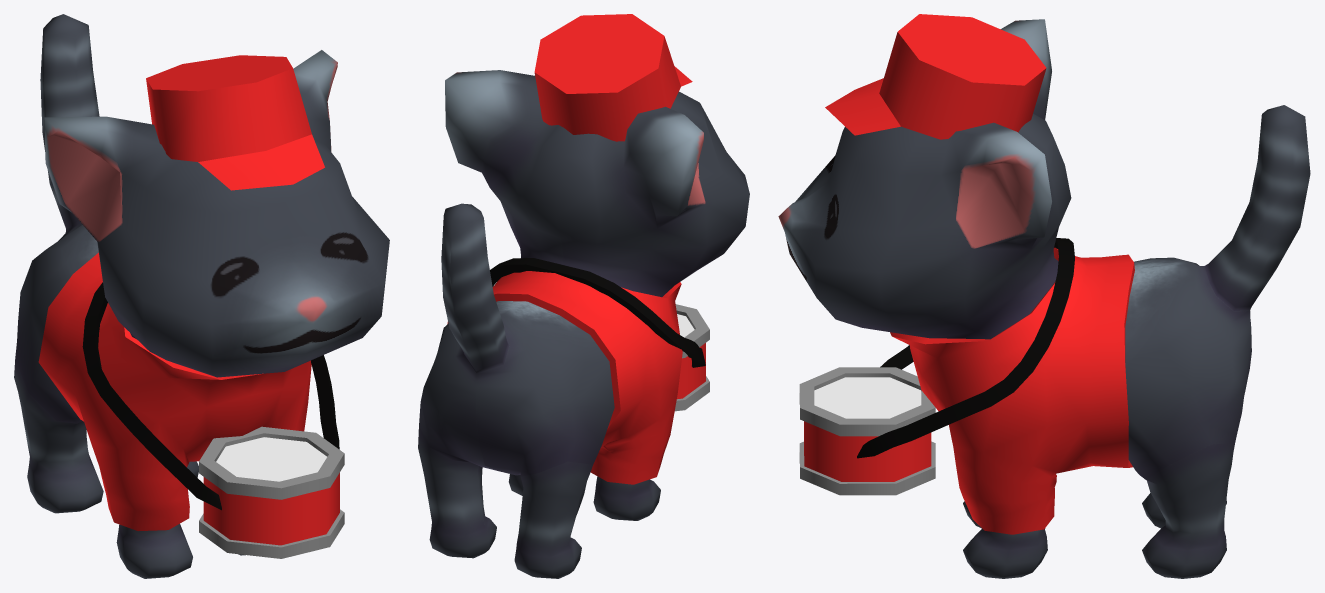
File: Band Cat04.fbx
3 renders of one model, left to right at view 1: azimuth 30°, elevation 25°; view 2: azimuth 150°, elevation 25°; view 3: azimuth 270°, elevation 25°, orthographic. The views are drawn at different scales.
Parts seen in each view (by area): view 1: Cat_Base003, Band_Cat_Uniform, Band_Cat_Drums, Band_Cat_Hat; view 2: Cat_Base003, Band_Cat_Uniform, Band_Cat_Hat, Band_Cat_Drums; view 3: Cat_Base003, Band_Cat_Uniform, Band_Cat_Drums, Band_Cat_Hat.
Part boxes in pixels (box(x1,y1,x2,y2)): Cat_Base003: box(14, 14, 389, 578); Band_Cat_Uniform: box(38, 252, 311, 531); Band_Cat_Drums: box(82, 282, 344, 558); Band_Cat_Hat: box(146, 55, 324, 190); Cat_Base003: box(418, 70, 749, 578); Band_Cat_Uniform: box(447, 271, 682, 484); Band_Cat_Hat: box(534, 14, 692, 141); Band_Cat_Drums: box(490, 258, 709, 411); Cat_Base003: box(778, 19, 1310, 578); Band_Cat_Uniform: box(890, 247, 1134, 534); Band_Cat_Drums: box(799, 238, 1074, 495); Band_Cat_Hat: box(825, 14, 1046, 139).
Size of the model in its own units: 1.75 by 2.83 by 3.01.
Materials: 5 (1 with a texture image).
